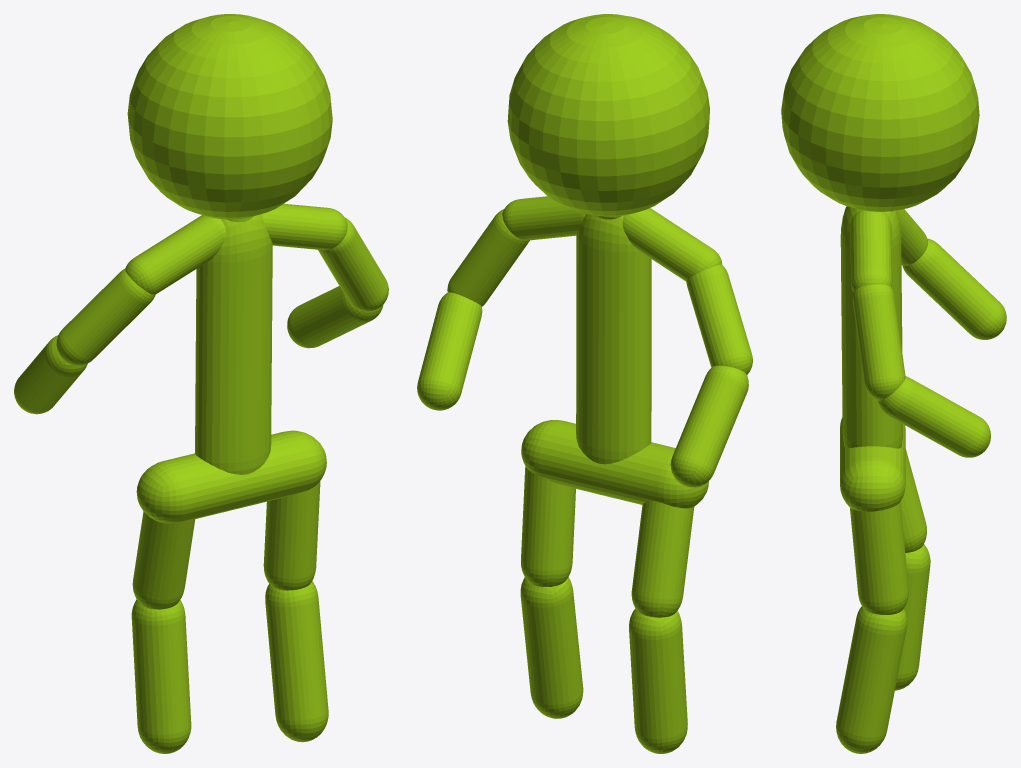
File: Stickman_000018.obj
The picture shows the model from 3 angles, left to right: view 1: azimuth 30°, elevation 25°; view 2: azimuth 150°, elevation 25°; view 3: azimuth 270°, elevation 25°; orthographic projection. The views are drawn at different scales.
Visible parts, largest first — view 1: Head_Sphere.001, Body_Roundcube.002, Hip_Roundcube.005, LowerLegLeft_Roundcube.013, LowerLegRight_Roundcube.011, UpperLegLeft_Roundcube.012, UpperLegRight_Roundcube.010, UpperArmRight_Roundcube.015, ShoulderRight_Roundcube.014, UpperArmLeft_Roundcube.018, LowerArmLeft_Roundcube.019, ShoulderLeft_Roundcube.017 (+1 smaller); view 2: Head_Sphere.001, Body_Roundcube.002, Hip_Roundcube.005, LowerLegRight_Roundcube.011, LowerLegLeft_Roundcube.013, UpperLegRight_Roundcube.010, LowerArmRight_Roundcube.016, UpperLegLeft_Roundcube.012, LowerArmLeft_Roundcube.019, UpperArmRight_Roundcube.015, ShoulderRight_Roundcube.014, UpperArmLeft_Roundcube.018 (+1 smaller); view 3: Head_Sphere.001, LowerLegLeft_Roundcube.013, Body_Roundcube.002, UpperLegLeft_Roundcube.012, LowerArmRight_Roundcube.016, LowerArmLeft_Roundcube.019, UpperArmLeft_Roundcube.018, Hip_Roundcube.005, ShoulderLeft_Roundcube.017, LowerLegRight_Roundcube.011, UpperLegRight_Roundcube.010, UpperArmRight_Roundcube.015.
Part boxes in pixels (x1,y1,x2,y2): Head_Sphere.001: (127, 14, 332, 219); Body_Roundcube.002: (195, 214, 272, 474); Hip_Roundcube.005: (136, 430, 326, 523); LowerLegLeft_Roundcube.013: (265, 581, 328, 742); LowerLegRight_Roundcube.011: (131, 599, 191, 753); UpperLegLeft_Roundcube.012: (263, 481, 320, 590); UpperLegRight_Roundcube.010: (132, 511, 195, 609); UpperArmRight_Roundcube.015: (56, 269, 155, 365); ShoulderRight_Roundcube.014: (125, 215, 226, 294); UpperArmLeft_Roundcube.018: (318, 217, 388, 311); LowerArmLeft_Roundcube.019: (287, 286, 383, 348); ShoulderLeft_Roundcube.017: (262, 203, 347, 250); Head_Sphere.001: (507, 14, 709, 216); Body_Roundcube.002: (576, 213, 651, 464); Hip_Roundcube.005: (521, 420, 708, 508); LowerLegRight_Roundcube.011: (629, 608, 687, 753); LowerLegLeft_Roundcube.013: (520, 577, 583, 718); UpperLegRight_Roundcube.010: (631, 501, 694, 617); LowerArmRight_Roundcube.016: (670, 365, 748, 487); UpperLegLeft_Roundcube.012: (521, 466, 575, 586); LowerArmLeft_Roundcube.019: (417, 292, 482, 410); UpperArmRight_Roundcube.015: (686, 264, 752, 374); ShoulderRight_Roundcube.014: (622, 208, 722, 281); UpperArmLeft_Roundcube.018: (447, 209, 529, 306); Head_Sphere.001: (781, 14, 979, 211); LowerLegLeft_Roundcube.013: (836, 606, 907, 753); Body_Roundcube.002: (840, 206, 902, 448); UpperLegLeft_Roundcube.012: (850, 502, 908, 614); LowerArmRight_Roundcube.016: (902, 238, 1006, 339); LowerArmLeft_Roundcube.019: (878, 376, 990, 457); UpperArmLeft_Roundcube.018: (852, 284, 905, 400); Hip_Roundcube.005: (840, 417, 905, 511); ShoulderLeft_Roundcube.017: (850, 210, 892, 291); LowerLegRight_Roundcube.011: (895, 544, 930, 690); UpperLegRight_Roundcube.010: (900, 449, 926, 552); UpperArmRight_Roundcube.015: (897, 209, 927, 265).
Size of the model in its own units: 4.93 by 10.6 by 3.1.
